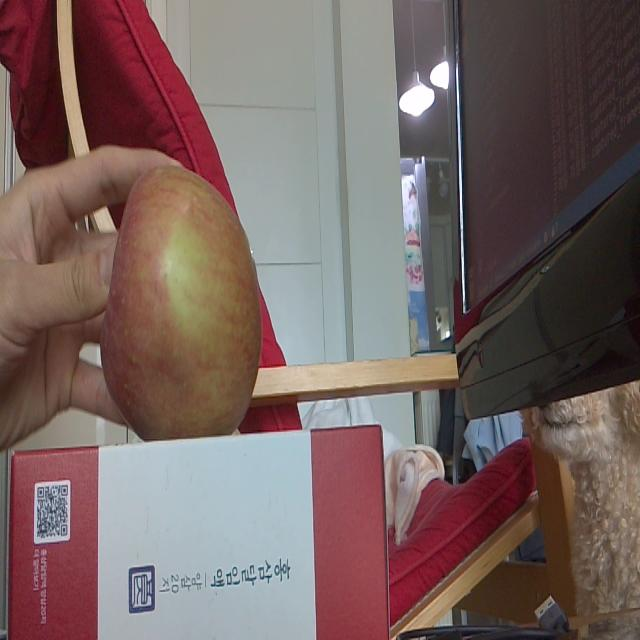apple: (109, 157, 261, 446)
